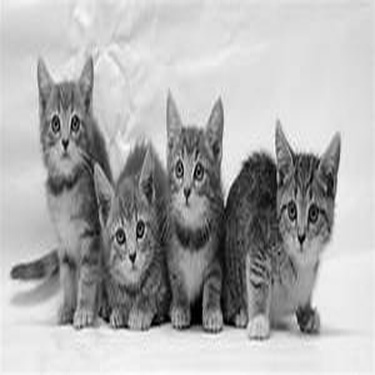cat: (6, 54, 115, 332), (221, 117, 345, 340), (165, 86, 229, 333), (92, 135, 173, 330)
